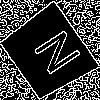N: (23, 27, 83, 83)
